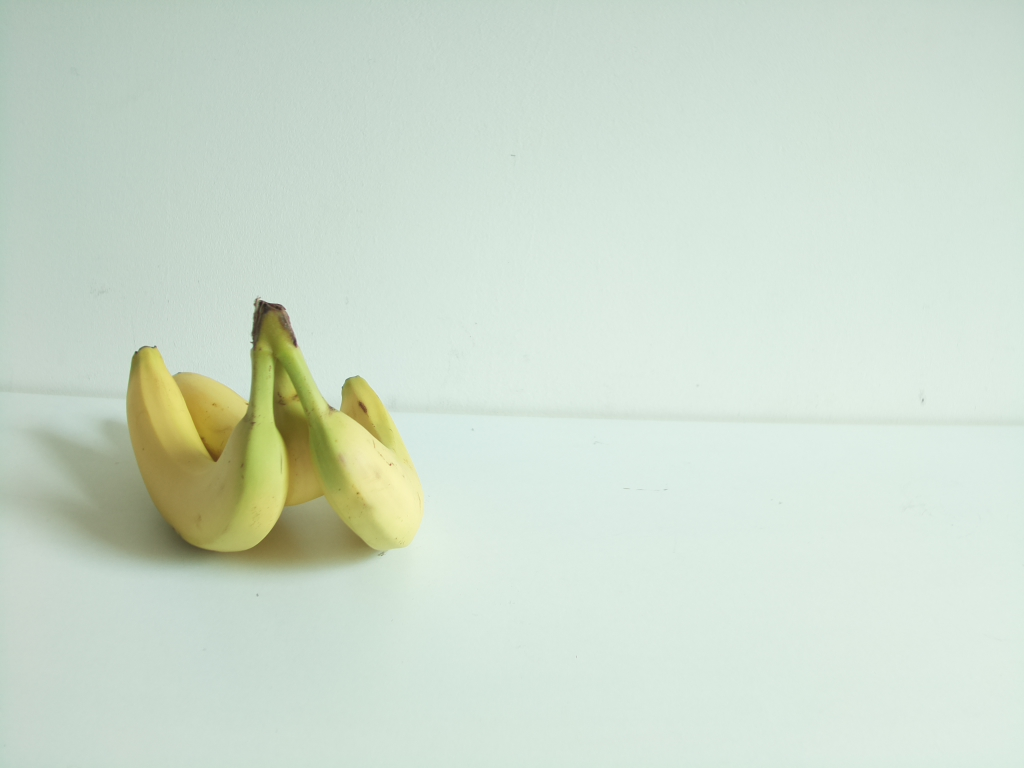banana: (126, 298, 289, 552), (273, 294, 424, 554), (173, 298, 336, 501)
